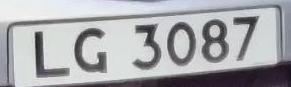0: (162, 14, 198, 72)
3: (127, 17, 165, 76)
7: (228, 12, 262, 64)
8: (197, 13, 232, 68)
G: (68, 22, 114, 80)
L: (25, 25, 71, 83)
